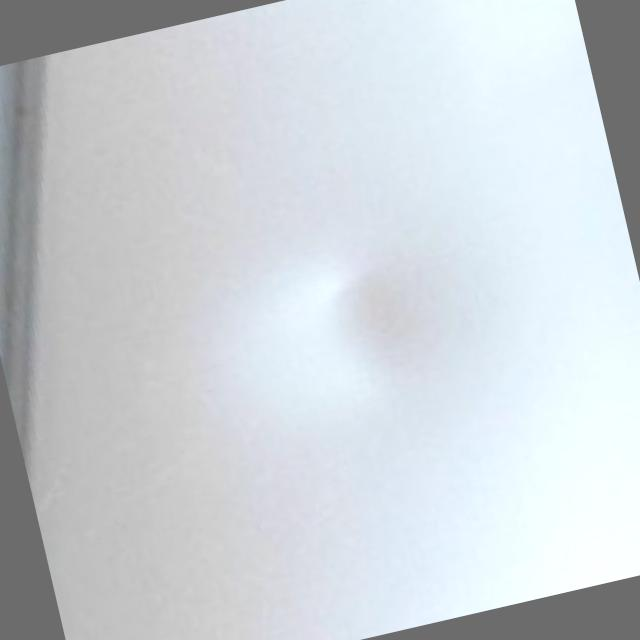dent: (284, 238, 448, 388)
